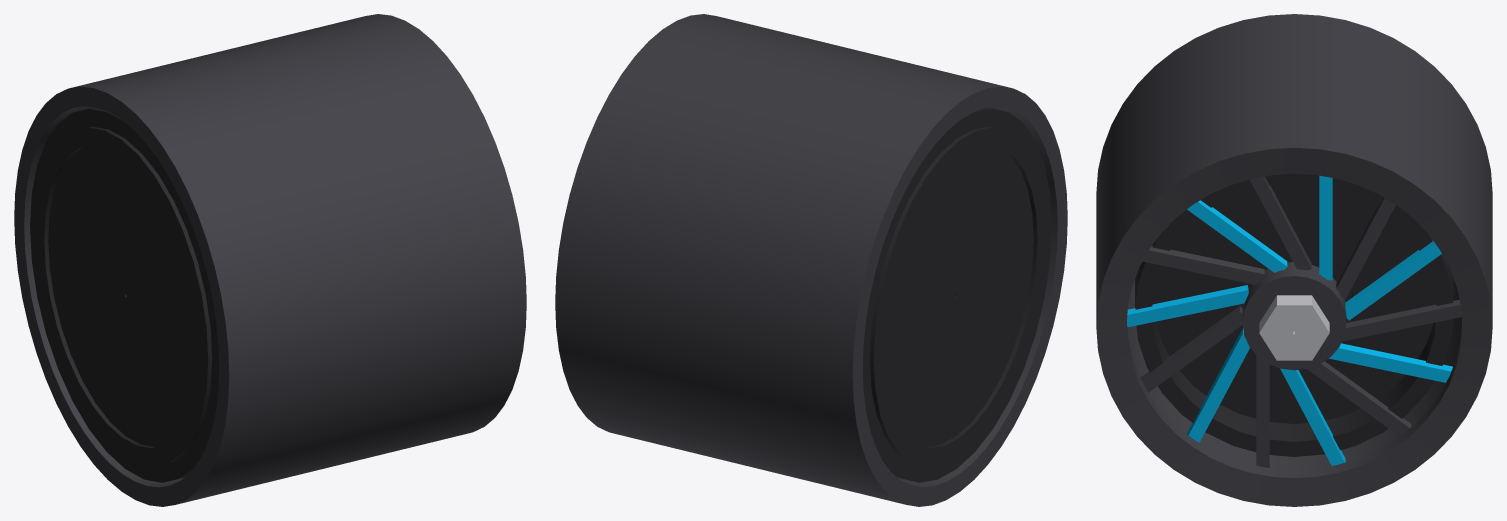
The model's file is turbine_rear.glb.
3 views of the same model, side by side, from view 1: azimuth 30°, elevation 25°; view 2: azimuth 150°, elevation 25°; view 3: azimuth 270°, elevation 25° (orthographic). The views are drawn at different scales.
Visible parts, largest first — view 1: Rim_turbine_rear; view 2: Rim_turbine_rear; view 3: Rim_turbine_rear.
Boxes of the visible parts, x1=… form: Rim_turbine_rear: x1=14, y1=14, x2=526, y2=506; Rim_turbine_rear: x1=555, y1=14, x2=1067, y2=506; Rim_turbine_rear: x1=1096, y1=14, x2=1492, y2=506.
Size of the model in its own units: 0.393 by 0.472 by 0.472.
